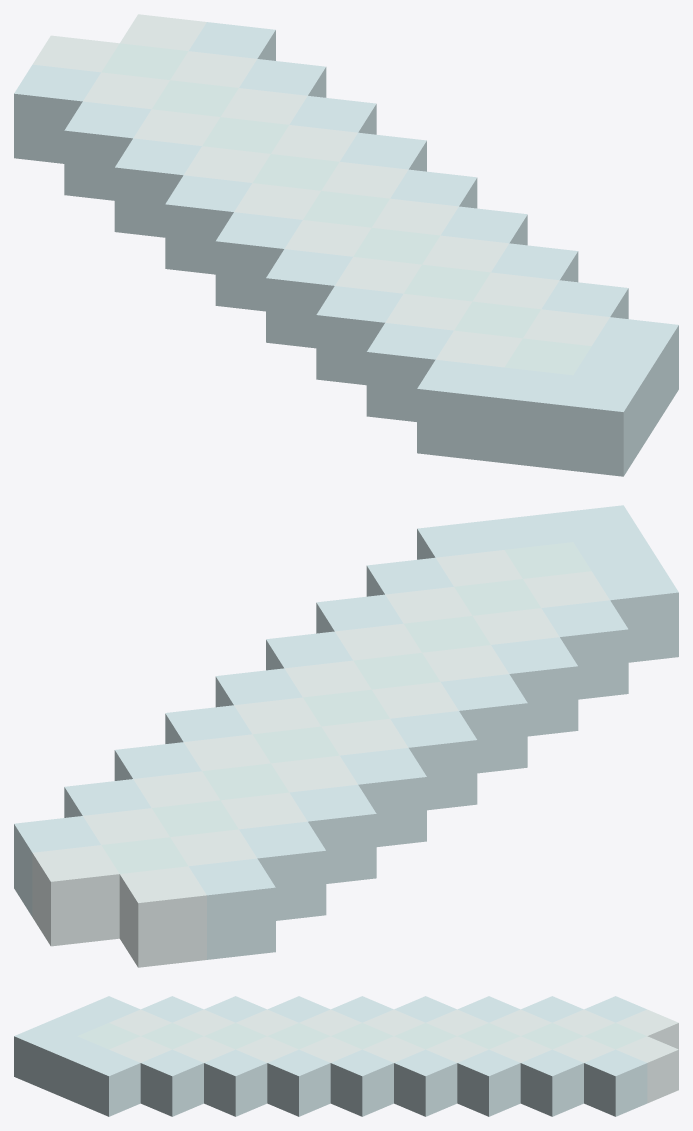
The model's file is ChargedSword.fbx.
3 views of the same model, one above another, from view 1: azimuth 30°, elevation 25°; view 2: azimuth 150°, elevation 25°; view 3: azimuth 270°, elevation 25° (orthographic). The views are drawn at different scales.
Visible parts, largest first — view 1: Untitled; view 2: Untitled; view 3: Untitled.
Part boxes in pixels (x1=…): Untitled: x1=14, y1=14, x2=678, y2=476; Untitled: x1=14, y1=505, x2=678, y2=967; Untitled: x1=14, y1=996, x2=678, y2=1116.
Size of the model in its own units: 42.43 by 10 by 148.
1 material, 1 textured.
